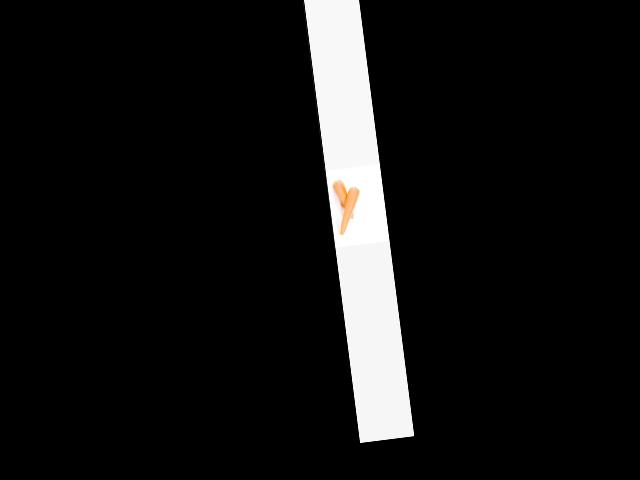carrot: (331, 175, 356, 224)
